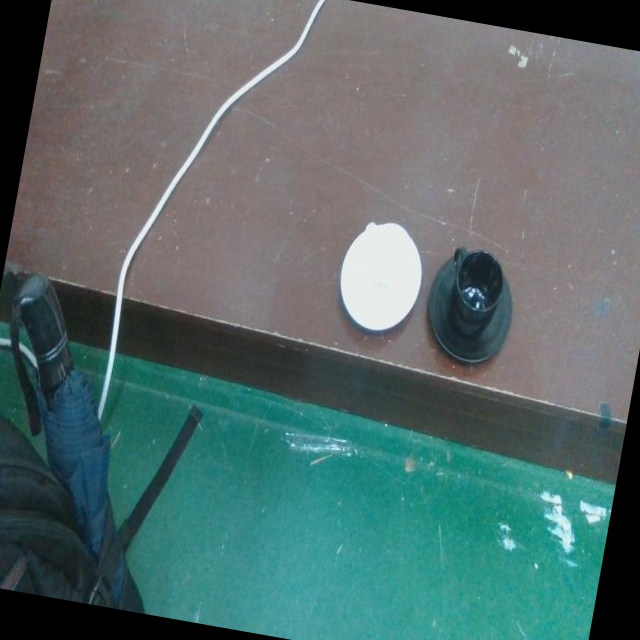black: (427, 245, 514, 369)
white: (339, 215, 424, 339)
